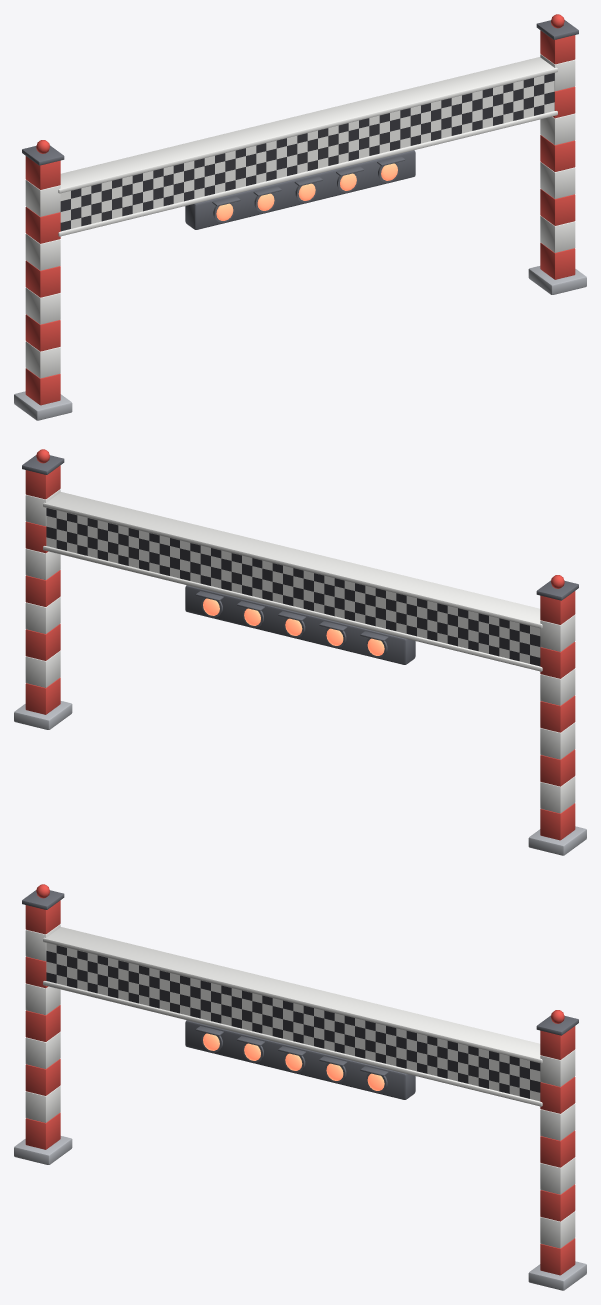
File: start_gantry.glb
The picture shows the model from 3 angles, top to bottom: view 1: azimuth 30°, elevation 25°; view 2: azimuth 150°, elevation 25°; view 3: azimuth 330°, elevation 25°; orthographic projection.
Parts seen in each view (by area): view 1: start_gantry; view 2: start_gantry; view 3: start_gantry.
Part boxes in pixels (x1,y1,x2,y2): start_gantry: [14, 14, 586, 420]; start_gantry: [14, 449, 586, 855]; start_gantry: [14, 884, 586, 1290].
Bounding box in the file's own units: 10.7 × 4.98 × 0.8.
